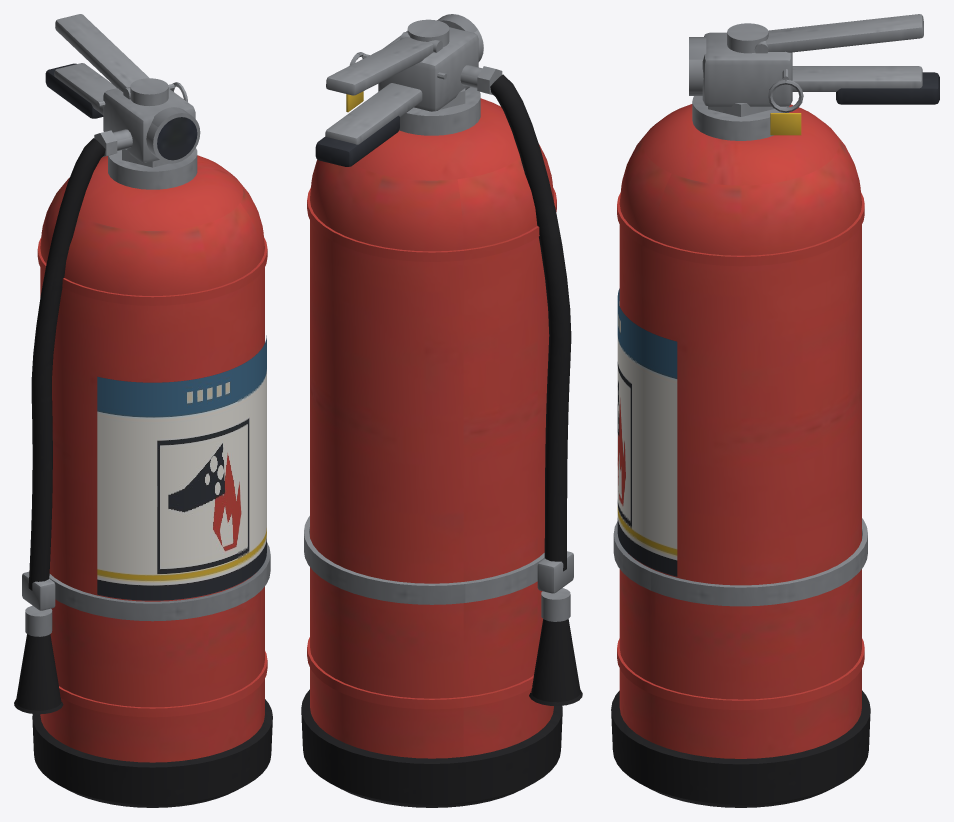
Rendered from fire_extinguisher.glb.
3 views of the same model, side by side, from view 1: azimuth 30°, elevation 25°; view 2: azimuth 150°, elevation 25°; view 3: azimuth 270°, elevation 25° (orthographic). The views are drawn at different scales.
Parts seen in each view (by area): view 1: FireExtinguisherBody; view 2: FireExtinguisherBody; view 3: FireExtinguisherBody.
Part boxes in pixels (left/top/right/bottom): FireExtinguisherBody: left=14, top=14, right=272, bottom=807; FireExtinguisherBody: left=301, top=14, right=582, bottom=807; FireExtinguisherBody: left=611, top=14, right=939, bottom=807.
Size of the model in its own units: 0.1725 by 0.4717 by 0.19.
8 materials, 7 textured.
